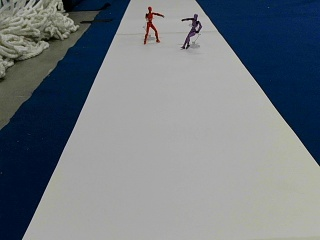pedestrian: (143, 6, 164, 43), (180, 13, 201, 48)
